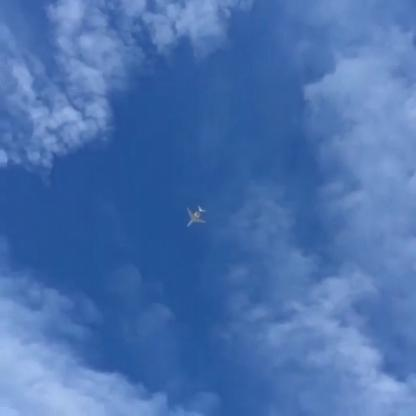CIV_Plane: (186, 204, 208, 228)
